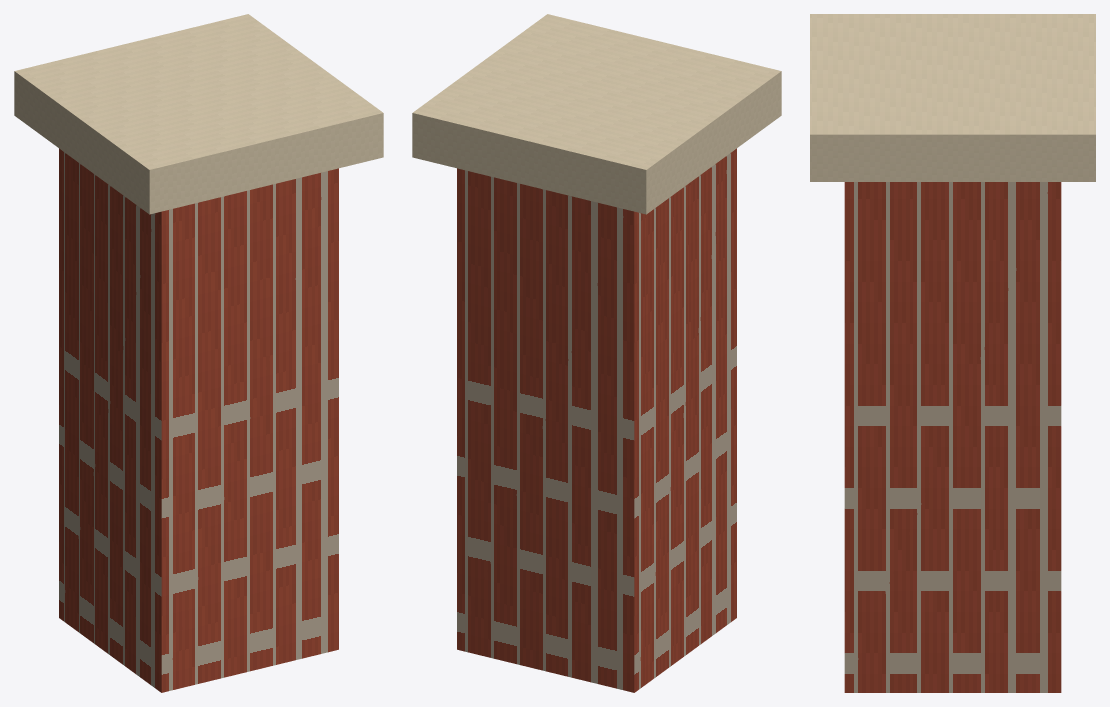
File: chimney-lod1.glb
3 renders of one model, left to right at view 1: azimuth 30°, elevation 25°; view 2: azimuth 150°, elevation 25°; view 3: azimuth 270°, elevation 25°, orthographic. The views are drawn at different scales.
Parts seen in each view (by area): view 1: chimney-lod1; view 2: chimney-lod1; view 3: chimney-lod1.
Boxes of the visible parts, x1=… form: chimney-lod1: x1=14, y1=14, x2=383, y2=692; chimney-lod1: x1=412, y1=14, x2=781, y2=692; chimney-lod1: x1=810, y1=14, x2=1095, y2=692.
Size of the model in its own units: 0.66 by 1.46 by 0.66.
1 material, 1 textured.
